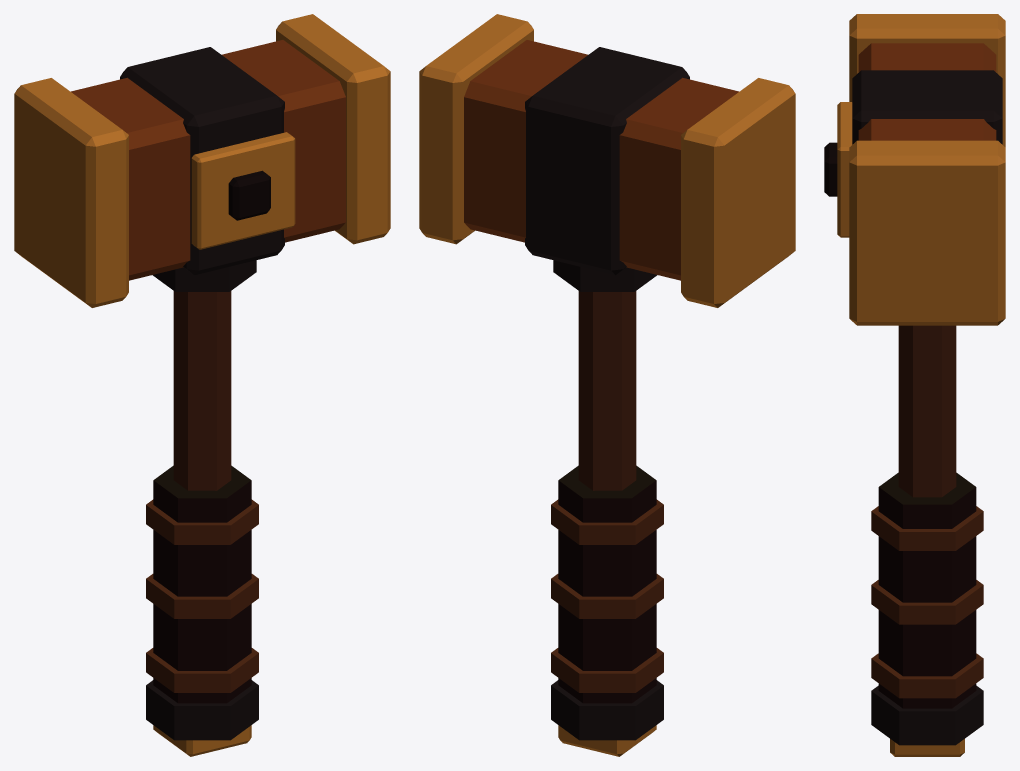
Rendered from hammer-wood.glb.
3 renders of one model, left to right at view 1: azimuth 30°, elevation 25°; view 2: azimuth 150°, elevation 25°; view 3: azimuth 270°, elevation 25°, orthographic.
Size of the model in its own units: 0.56 by 1.16 by 0.29.
